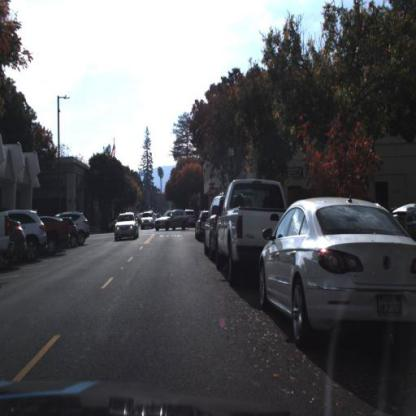car: (251, 178, 416, 370), (211, 176, 258, 294), (38, 216, 77, 256), (204, 193, 226, 260), (25, 207, 48, 266), (154, 206, 189, 237), (114, 210, 141, 243), (46, 214, 67, 254), (78, 207, 91, 246), (67, 217, 81, 249)
